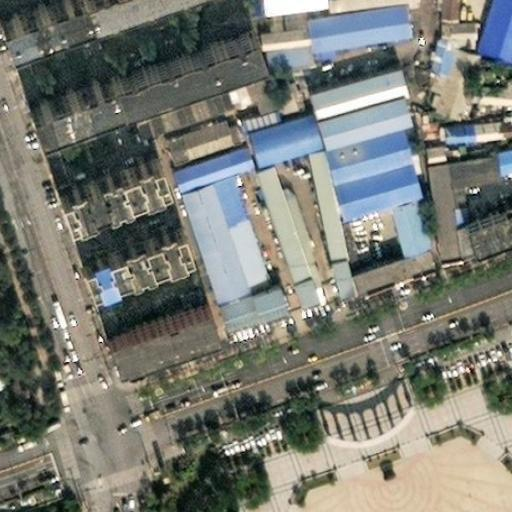building: (20, 13, 257, 119), (173, 155, 259, 282), (248, 144, 314, 283), (319, 102, 417, 191), (346, 172, 432, 268), (299, 127, 351, 272), (100, 282, 210, 346), (51, 143, 158, 203), (74, 208, 180, 265), (129, 69, 242, 119), (311, 70, 409, 122), (305, 45, 402, 92), (421, 146, 467, 242), (240, 92, 316, 148), (418, 27, 474, 103), (152, 101, 234, 152), (166, 127, 245, 172), (209, 263, 275, 311), (30, 113, 67, 194), (458, 188, 512, 231), (60, 198, 91, 262), (83, 260, 118, 315), (254, 27, 304, 59), (471, 0, 512, 38), (440, 140, 494, 168), (462, 63, 511, 90), (237, 62, 270, 99), (422, 18, 448, 57), (463, 103, 505, 124), (429, 108, 466, 131), (237, 92, 273, 113), (443, 166, 460, 209), (490, 125, 512, 158), (431, 2, 466, 19), (414, 99, 431, 133), (303, 29, 329, 45), (418, 130, 440, 148)
